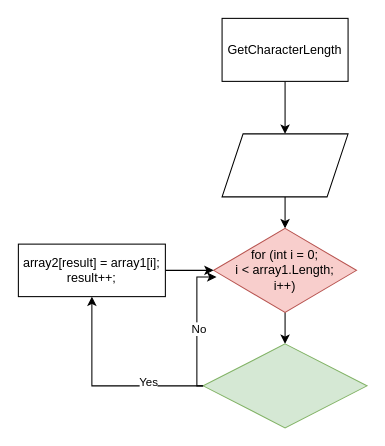
The diagram is 385 pixels wide and 446 high, and some of its shapes have lost their labels. Each missing label, with the box of its shape:
if (array1[i].Length <= 3): (202, 343, 367, 428)
string[] array1 string[] array2 int result = 0: (221, 133, 348, 197)
